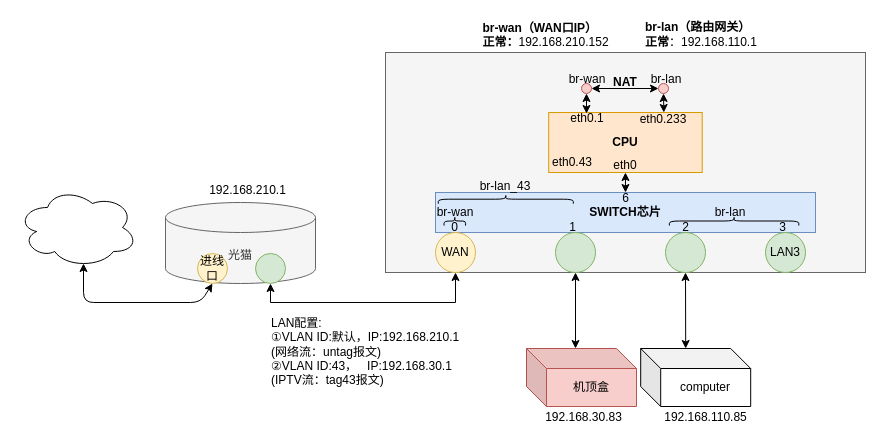
The diagram is 883 pixels wide and 444 high, and some of its shapes have lost their labels. Here are the shapes that lost their labels. From the top down, the centre of each, then its label:
At (x=77, y=227): "ISP".
At (x=270, y=268): "LAN".
At (x=575, y=252): "LAN1".
At (x=685, y=252): "LAN2".
